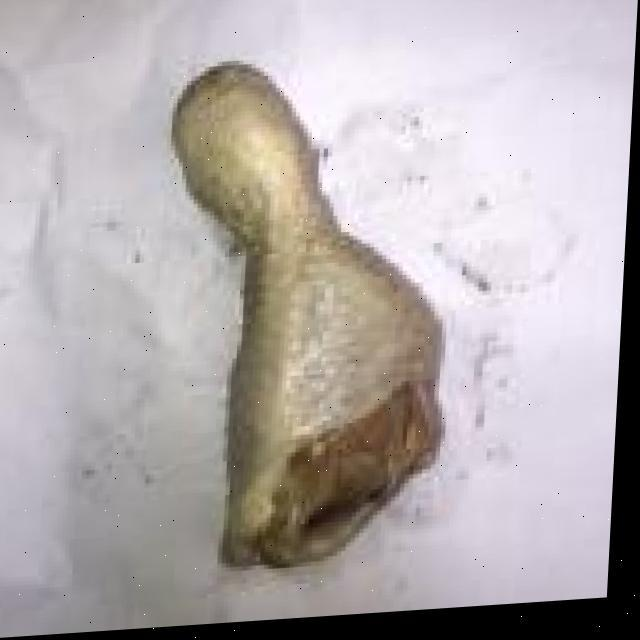leg: (160, 38, 472, 586)
